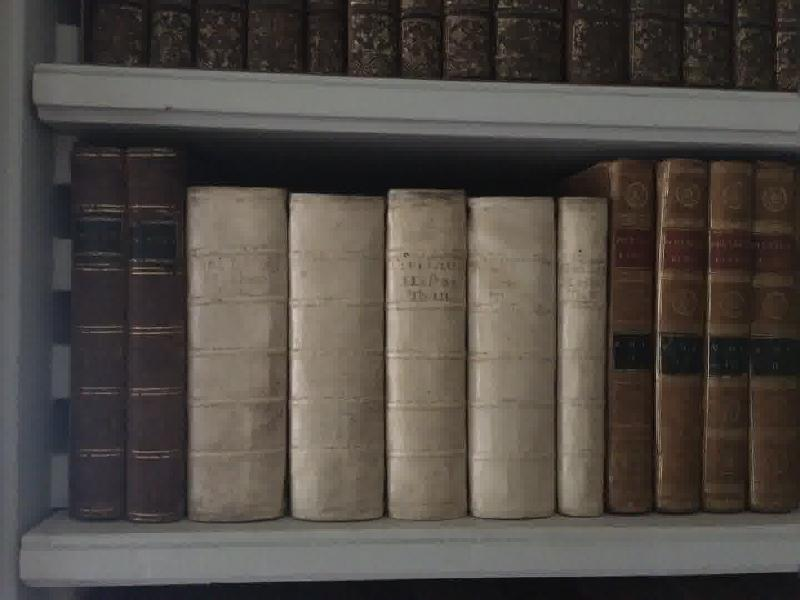Kk4-1_2: (63, 135, 195, 535)
Kk4-3_7: (183, 177, 616, 535)
Kk4-8_13: (604, 153, 800, 518)
